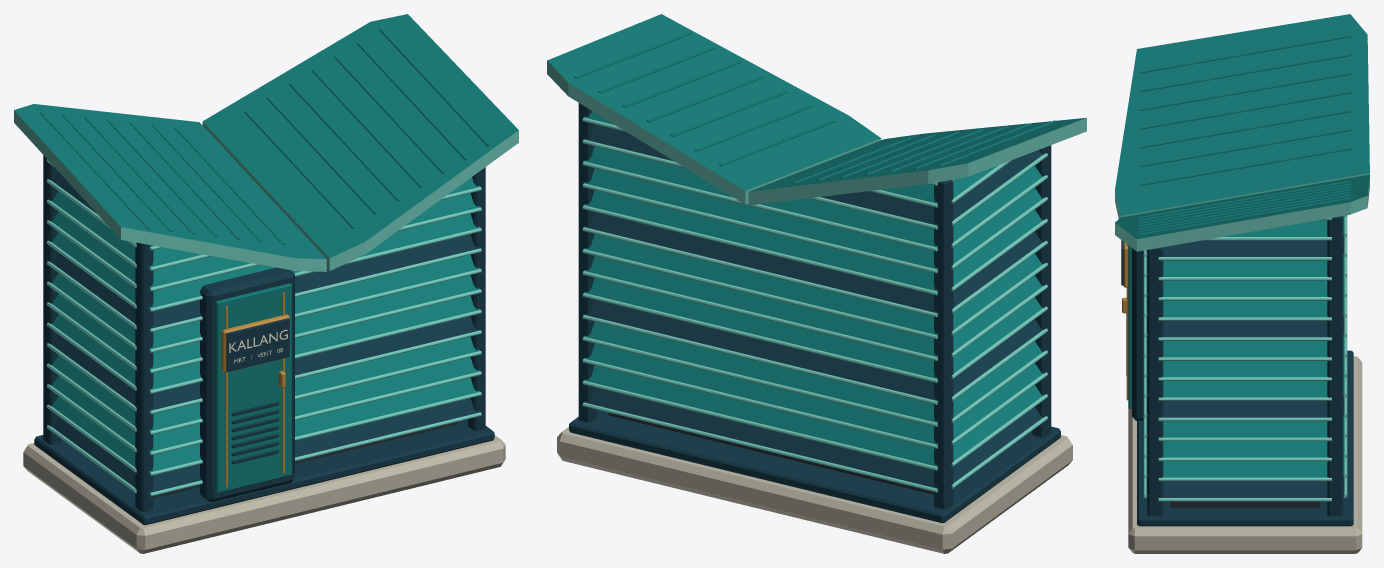
3 views of the same model, side by side, from view 1: azimuth 30°, elevation 25°; view 2: azimuth 150°, elevation 25°; view 3: azimuth 270°, elevation 25° (orthographic). The views are drawn at different scales.
Visible parts, largest first — view 1: Rainproof Blade Bank, Standing Seam Butterfly Hood, Flood Sill and Plinth, Service Spine, Frame Stiles; view 2: Rainproof Blade Bank, Standing Seam Butterfly Hood, Flood Sill and Plinth, Frame Stiles; view 3: Standing Seam Butterfly Hood, Rainproof Blade Bank, Flood Sill and Plinth, Frame Stiles, Service Spine.
Part boxes in pixels (left/top/right/bottom): Rainproof Blade Bank: left=46, top=159, right=481, bottom=498; Standing Seam Butterfly Hood: left=14, top=14, right=518, bottom=271; Flood Sill and Plinth: left=23, top=419, right=505, bottom=553; Service Spine: left=200, top=267, right=294, bottom=502; Frame Stiles: left=43, top=155, right=485, bottom=512; Rainproof Blade Bank: left=582, top=111, right=1047, bottom=494; Standing Seam Butterfly Hood: left=547, top=14, right=1086, bottom=205; Flood Sill and Plinth: left=557, top=410, right=1072, bottom=553; Frame Stiles: left=578, top=103, right=1051, bottom=509; Standing Seam Butterfly Hood: left=1115, top=14, right=1369, bottom=251; Rainproof Blade Bank: left=1143, top=215, right=1347, bottom=508; Flood Sill and Plinth: left=1128, top=350, right=1362, bottom=553; Frame Stiles: left=1147, top=216, right=1343, bottom=516; Service Spine: left=1121, top=240, right=1143, bottom=421.
Size of the model in its own units: 3.9 by 3.44 by 2.21.
